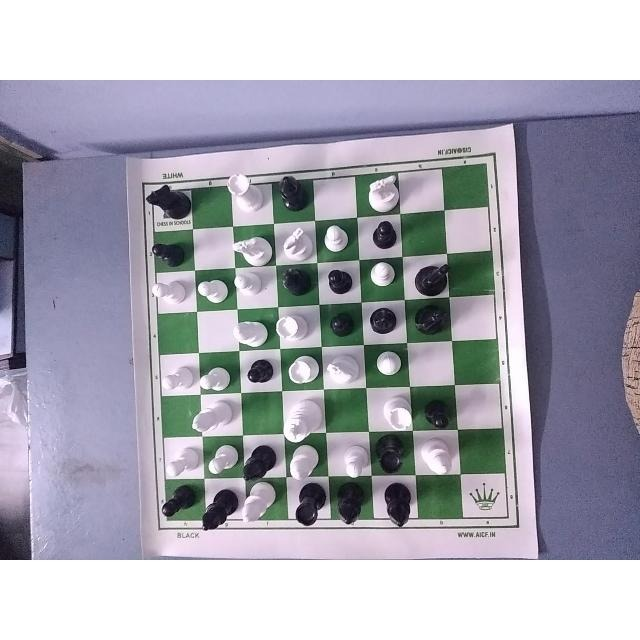black-bishop: (200, 482, 242, 538), (330, 483, 371, 533), (238, 435, 276, 487), (274, 264, 318, 308), (377, 484, 415, 533), (272, 169, 310, 216), (358, 304, 402, 339)
black-knight: (143, 183, 194, 227), (409, 260, 451, 296), (408, 309, 452, 339)
black-pawn: (158, 481, 204, 524), (147, 232, 191, 268), (321, 262, 359, 302), (419, 396, 459, 434), (366, 218, 404, 252), (322, 310, 361, 342), (245, 353, 278, 387)
black-rook: (289, 481, 327, 531), (375, 433, 411, 478)
white-bishop: (237, 482, 277, 530), (189, 400, 239, 438), (286, 438, 323, 488), (421, 438, 464, 478), (231, 312, 273, 348)
white-king: (282, 393, 322, 447)
white-knight: (321, 349, 371, 386), (361, 170, 399, 214), (276, 222, 316, 262), (230, 230, 274, 264)
white-pawn: (159, 440, 205, 482), (205, 439, 241, 479), (158, 361, 194, 399), (371, 349, 407, 386), (228, 269, 266, 303), (361, 257, 401, 289), (147, 276, 191, 305), (196, 361, 230, 395), (342, 444, 373, 480), (320, 220, 348, 257), (197, 278, 233, 305)
white-rook: (224, 173, 274, 215), (383, 389, 417, 435), (276, 311, 316, 345), (288, 356, 324, 386)
